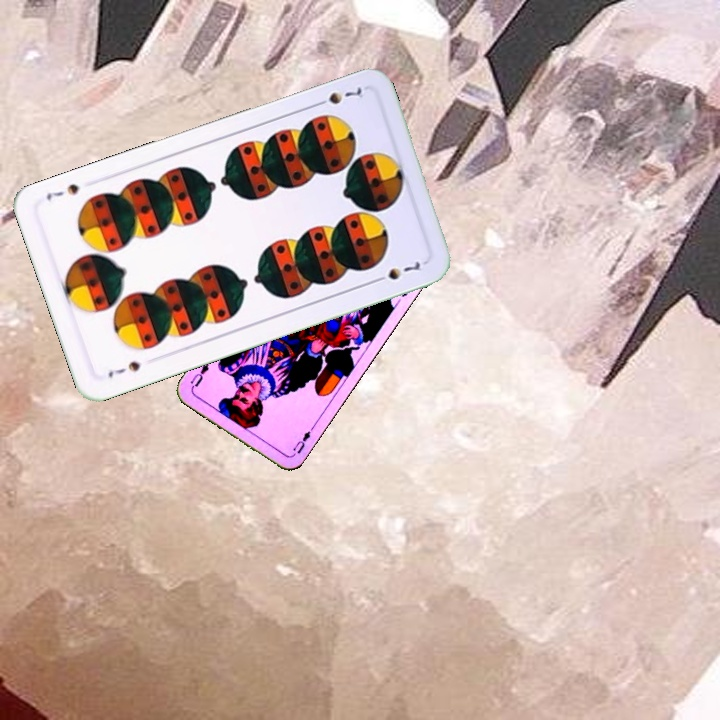EU: (289, 423, 316, 456)
S7: (310, 82, 365, 109), (104, 357, 143, 380)
